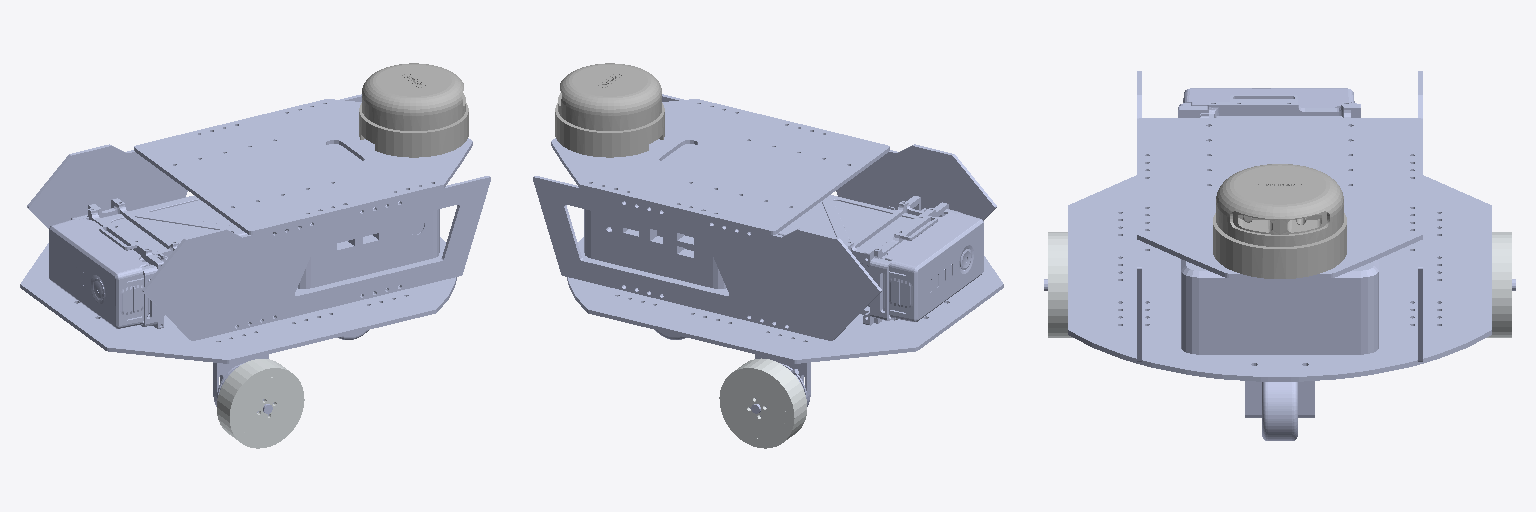
The robot description file, URDF, robot "arx_mini_description":
<?xml version="1.0" ?>
<!-- =================================================================================== -->
<!-- |    This document was autogenerated by xacro from arx_mini_with_manipulator.urdf.xacro | -->
<!-- |    EDITING THIS FILE BY HAND IS NOT RECOMMENDED                                 | -->
<!-- =================================================================================== -->
<robot name="arx_mini_description">
  <material name="black">
    <color rgba="0.0 0.0 0.0 1.0"/>
  </material>
  <material name="white">
    <color rgba="1.0 1.0 1.0 1.0"/>
  </material>
  <material name="red">
    <color rgba="0.8 0.0 0.0 1.0"/>
  </material>
  <material name="blue">
    <color rgba="0.0 0.0 0.8 1.0"/>
  </material>
  <material name="green">
    <color rgba="0.0 0.8 0.0 1.0"/>
  </material>
  <material name="grey">
    <color rgba="0.5 0.5 0.5 1.0"/>
  </material>
  <material name="orange">
    <color rgba="1.0 0.4235294117647059 0.0392156862745098 1.0"/>
  </material>
  <material name="brown">
    <color rgba="0.8705882352941177 0.8117647058823529 0.7647058823529411 1.0"/>
  </material>
  <!-- World -->
  <gazebo reference="world"/>
  <!-- Link1 -->
  <RefLink ref="link1"/>
  <!-- Link2 -->
  <RefLink ref="link2"/>
  <!-- Link3 -->
  <RefLink ref="link3"/>
  <!-- Link4 -->
  <RefLink ref="link4"/>
  <!-- Link5 -->
  <RefLink ref="link5"/>
  <!-- gripper_link -->
  <RefLink ref="gripper_link"/>
  <!-- gripper_link_sub -->
  <RefLink ref="gripper_link_sub"/>
  <!-- end effector link -->
  <gazebo reference="end_effector_link">
    <material>Gazebo/Red</material>
  </gazebo>
  <!-- ros_control plugin -->
  <gazebo>
    <plugin filename="libgazebo_ros_control.so" name="gazebo_ros_control">
      <controlPeriod>0.001</controlPeriod>
      <robotSimType>gazebo_ros_control/DefaultRobotHWSim</robotSimType>
      <legacyModeNS>true</legacyModeNS>
    </plugin>
  </gazebo>
  <gazebo>
    <!-- loading plugin: mimic joints works in gazebo now -->
    <plugin filename="libroboticsgroup_gazebo_mimic_joint_plugin.so" name="gazebo_gripper_ros_control">
      <joint>gripper</joint>
      <mimicJoint>gripper_sub</mimicJoint>
      <multiplier>1.0</multiplier>
      <offset>0.0</offset>
    </plugin>
  </gazebo>
  <!-- camera -->
  <gazebo reference="camera_link">
    <sensor name="intel_realsense_r200" type="camera">
      <update_rate>30.0</update_rate>
      <camera name="head">
        <horizontal_fov>1.02974</horizontal_fov>
        <image>
          <width>1920</width>
          <height>1080</height>
          <format>R8G8B8</format>
        </image>
        <clip>
          <near>0.02</near>
          <far>300</far>
        </clip>
        <noise>
          <type>gaussian</type>
          <!-- Noise is sampled independently per pixel on each frame.
               That pixel's noise value is added to each of its color
               channels, which at that point lie in the range [0,1]. -->
          <mean>0.0</mean>
          <stddev>0.007</stddev>
        </noise>
      </camera>
      <plugin filename="libgazebo_ros_camera.so" name="camera_controller">
        <alwaysOn>true</alwaysOn>
        <updateRate>0.0</updateRate>
        <cameraName>camera/color</cameraName>
        <imageTopicName>image_raw</imageTopicName>
        <cameraInfoTopicName>camera_info</cameraInfoTopicName>
        <frameName>camera_link</frameName>
        <hackBaseline>0.07</hackBaseline>
        <distortionK1>0.0</distortionK1>
        <distortionK2>0.0</distortionK2>
        <distortionK3>0.0</distortionK3>
        <distortionT1>0.0</distortionT1>
        <distortionT2>0.0</distortionT2>
      </plugin>
    </sensor>
  </gazebo>
  <transmission name="tran1">
    <type>transmission_interface/SimpleTransmission</type>
    <joint name="joint1">
      <hardwareInterface>hardware_interface/PositionJointInterface</hardwareInterface>
    </joint>
    <actuator name="motor1">
      <mechanicalReduction>1</mechanicalReduction>
    </actuator>
  </transmission>
  <transmission name="tran2">
    <type>transmission_interface/SimpleTransmission</type>
    <joint name="joint2">
      <hardwareInterface>hardware_interface/PositionJointInterface</hardwareInterface>
    </joint>
    <actuator name="motor2">
      <mechanicalReduction>1</mechanicalReduction>
    </actuator>
  </transmission>
  <transmission name="tran3">
    <type>transmission_interface/SimpleTransmission</type>
    <joint name="joint3">
      <hardwareInterface>hardware_interface/PositionJointInterface</hardwareInterface>
    </joint>
    <actuator name="motor3">
      <mechanicalReduction>1</mechanicalReduction>
    </actuator>
  </transmission>
  <transmission name="tran4">
    <type>transmission_interface/SimpleTransmission</type>
    <joint name="joint4">
      <hardwareInterface>hardware_interface/PositionJointInterface</hardwareInterface>
    </joint>
    <actuator name="motor4">
      <mechanicalReduction>1</mechanicalReduction>
    </actuator>
  </transmission>
  <transmission name="tran5">
    <type>transmission_interface/SimpleTransmission</type>
    <joint name="gripper">
      <hardwareInterface>hardware_interface/PositionJointInterface</hardwareInterface>
    </joint>
    <actuator name="motor5">
      <mechanicalReduction>1</mechanicalReduction>
    </actuator>
  </transmission>
  <transmission name="tran6">
    <type>transmission_interface/SimpleTransmission</type>
    <joint name="gripper_sub">
      <hardwareInterface>hardware_interface/PositionJointInterface</hardwareInterface>
    </joint>
    <actuator name="motor6">
      <mechanicalReduction>1</mechanicalReduction>
    </actuator>
  </transmission>
  <!-- Link 1 -->
  <link name="link1">
    <visual>
      <origin rpy="0 0 0" xyz="0 0 0"/>
      <geometry>
        <mesh filename="package://open_manipulator_description/meshes/chain_link1.stl" scale="0.001 0.001 0.001"/>
      </geometry>
      <material name="grey"/>
    </visual>
    <collision>
      <origin rpy="0 0 0" xyz="0 0 0"/>
      <geometry>
        <mesh filename="package://open_manipulator_description/meshes/chain_link1.stl" scale="0.001 0.001 0.001"/>
      </geometry>
    </collision>
    <inertial>
      <origin xyz="3.0876154e-04 0.0000000e+00 -1.2176461e-04"/>
      <mass value="7.9119962e-02"/>
      <inertia ixx="1.2505234e-05" ixy="0.0" ixz="-1.7855208e-07" iyy="2.1898364e-05" iyz="0.0" izz="1.9267361e-05"/>
    </inertial>
  </link>
  <!-- Joint 1 -->
  <joint name="joint1" type="revolute">
    <parent link="link1"/>
    <child link="link2"/>
    <origin rpy="0 0 0" xyz="0.012 0.0 0.017"/>
    <axis xyz="0 0 1"/>
    <limit effort="10" lower="-3.141593" upper="3.141593" velocity="4.8"/>
  </joint>
  <!--  Link 2 -->
  <link name="link2">
    <visual>
      <origin rpy="0 0 0" xyz="0 0 0.019"/>
      <geometry>
        <mesh filename="package://open_manipulator_description/meshes/chain_link2.stl" scale="0.001 0.001 0.001"/>
      </geometry>
      <material name="grey"/>
    </visual>
    <collision>
      <origin rpy="0 0 0" xyz="0 0 0.019"/>
      <geometry>
        <mesh filename="package://open_manipulator_description/meshes/chain_link2.stl" scale="0.001 0.001 0.001"/>
      </geometry>
    </collision>
    <inertial>
      <origin xyz="-3.0184870e-04 5.4043684e-04 0.047433463999999995"/>
      <mass value="9.8406837e-02"/>
      <inertia ixx="3.4543422e-05" ixy="-1.6031095e-08" ixz="-3.8375155e-07" iyy="3.2689329e-05" iyz="2.8511935e-08" izz="1.8850320e-05"/>
    </inertial>
  </link>
  <!--  Joint 2 -->
  <joint name="joint2" type="revolute">
    <parent link="link2"/>
    <child link="link3"/>
    <origin rpy="0 0 0" xyz="0.0 0.0 0.0595"/>
    <axis xyz="0 1 0"/>
    <limit effort="10" lower="-3.141593" upper="3.141593" velocity="4.8"/>
  </joint>
  <!--  Link 3 -->
  <link name="link3">
    <visual>
      <origin rpy="0 0 0" xyz="0 0 0"/>
      <geometry>
        <mesh filename="package://open_manipulator_description/meshes/chain_link3.stl" scale="0.001 0.001 0.001"/>
      </geometry>
      <material name="grey"/>
    </visual>
    <collision>
      <origin rpy="0 0 0" xyz="0 0 0"/>
      <geometry>
        <mesh filename="package://open_manipulator_description/meshes/chain_link3.stl" scale="0.001 0.001 0.001"/>
      </geometry>
    </collision>
    <inertial>
      <origin xyz="1.0308393e-02 3.7743363e-04 1.0170197e-01"/>
      <mass value="1.3850917e-01"/>
      <inertia ixx="3.3055381e-04" ixy="-9.7940978e-08" ixz="-3.8505711e-05" iyy="3.4290447e-04" iyz="-1.5717516e-06" izz="6.0346498e-05"/>
    </inertial>
  </link>
  <!--  Joint 3 -->
  <joint name="joint3" type="revolute">
    <parent link="link3"/>
    <child link="link4"/>
    <origin rpy="0 0 0" xyz="0.024 0 0.128"/>
    <axis xyz="0 1 0"/>
    <limit effort="10" lower="-3.141593" upper="3.141593" velocity="4.8"/>
  </joint>
  <!--  Link 4 -->
  <link name="link4">
    <visual>
      <origin rpy="0 0 0" xyz="0 0 0"/>
      <geometry>
        <mesh filename="package://open_manipulator_description/meshes/chain_link4.stl" scale="0.001 0.001 0.001"/>
      </geometry>
      <material name="grey"/>
    </visual>
    <collision>
      <origin rpy="0 0 0" xyz="0 0 0"/>
      <geometry>
        <mesh filename="package://open_manipulator_description/meshes/chain_link4.stl" scale="0.001 0.001 0.001"/>
      </geometry>
    </collision>
    <inertial>
      <origin xyz="9.0909590e-02 3.8929816e-04 2.2413279e-04"/>
      <mass value="1.3274562e-01"/>
      <inertia ixx="3.0654178e-05" ixy="-1.2764155e-06" ixz="-2.6874417e-07" iyy="2.4230292e-04" iyz="1.1559550e-08" izz="2.5155057e-04"/>
    </inertial>
  </link>
  <!--  Joint 4 -->
  <joint name="joint4" type="revolute">
    <parent link="link4"/>
    <child link="link5"/>
    <origin rpy="0 0 0" xyz="0.124 0.0 0.0"/>
    <axis xyz="0 1 0"/>
    <limit effort="10" lower="-3.141593" upper="3.141593" velocity="4.8"/>
  </joint>
  <!--  Link 5 -->
  <link name="link5">
    <visual>
      <origin rpy="0 0 0" xyz="0 0 0"/>
      <geometry>
        <mesh filename="package://open_manipulator_description/meshes/chain_link5.stl" scale="0.001 0.001 0.001"/>
      </geometry>
      <material name="grey"/>
    </visual>
    <collision>
      <origin rpy="0 0 0" xyz="0 0 0"/>
      <geometry>
        <mesh filename="package://open_manipulator_description/meshes/chain_link5.stl" scale="0.001 0.001 0.001"/>
      </geometry>
    </collision>
    <inertial>
      <origin xyz="4.4206755e-02 3.6839985e-07 8.9142216e-03"/>
      <mass value="1.4327573e-01"/>
      <inertia ixx="8.0870749e-05" ixy="0.0" ixz="-1.0157896e-06" iyy="7.5980465e-05" iyz="0.0" izz="9.3127351e-05"/>
    </inertial>
  </link>
  <!--  Gripper joint -->
  <joint name="gripper" type="prismatic">
    <parent link="link5"/>
    <child link="gripper_link"/>
    <origin rpy="0 0 0" xyz="0.0817 0.021 0.0"/>
    <axis xyz="0 1 0"/>
    <limit effort="1" lower="-0.010" upper="0.019" velocity="4.8"/>
  </joint>
  <!--  Gripper link -->
  <link name="gripper_link">
    <visual>
      <origin rpy="0 0 0" xyz="0.0 0.0 0"/>
      <geometry>
        <mesh filename="package://open_manipulator_description/meshes/chain_link_grip_l.stl" scale="0.001 0.001 0.001"/>
      </geometry>
      <material name="grey"/>
    </visual>
    <collision>
      <origin rpy="0 0 0" xyz="0.0 0.0 0"/>
      <geometry>
        <mesh filename="package://open_manipulator_description/meshes/chain_link_grip_l.stl" scale="0.001 0.001 0.001"/>
      </geometry>
    </collision>
    <inertial>
      <origin xyz="0 0 0"/>
      <mass value="1.0e-03"/>
      <inertia ixx="1.0e-03" ixy="0.0" ixz="0.0" iyy="1.0e-03" iyz="0.0" izz="1.0e-03"/>
    </inertial>
  </link>
  <!--  Gripper joint sub -->
  <joint name="gripper_sub" type="prismatic">
    <parent link="link5"/>
    <child link="gripper_link_sub"/>
    <origin rpy="0 0 0" xyz="0.0817 -0.021 0"/>
    <axis xyz="0 -1 0"/>
    <limit effort="1" lower="-0.010" upper="0.019" velocity="4.8"/>
    <mimic joint="gripper" multiplier="1"/>
  </joint>
  <!--  Gripper link sub -->
  <link name="gripper_link_sub">
    <visual>
      <origin rpy="0 0 0" xyz="0.0 -0.0 0"/>
      <geometry>
        <mesh filename="package://open_manipulator_description/meshes/chain_link_grip_r.stl" scale="0.001 0.001 0.001"/>
      </geometry>
      <material name="grey"/>
    </visual>
    <collision>
      <origin rpy="0 0 0" xyz="0.0 -0.0 0"/>
      <geometry>
        <mesh filename="package://open_manipulator_description/meshes/chain_link_grip_r.stl" scale="0.001 0.001 0.001"/>
      </geometry>
    </collision>
    <inertial>
      <origin xyz="0 0 0"/>
      <mass value="1.0e-03"/>
      <inertia ixx="1.0e-03" ixy="0.0" ixz="0.0" iyy="1.0e-03" iyz="0.0" izz="1.0e-03"/>
    </inertial>
  </link>
  <!-- manipulator fixed joint-->
  <joint name="manipulator_fixed" type="fixed">
    <origin rpy="0 0 0" xyz="0 0 0.075"/>
    <parent link="base_link"/>
    <child link="link1"/>
  </joint>
  <link name="base_link">
    <inertial>
      <origin rpy="0 0 0" xyz="0.015887 -0.00054953 0.028848"/>
      <mass value="15.062"/>
      <inertia ixx="0.0021916" ixy="-3.614E-06" ixz="8.4882E-06" iyy="0.0032298" iyz="2.6215E-06" izz="0.004925"/>
    </inertial>
    <visual>
      <origin rpy="0 0 0" xyz="0 0 0"/>
      <geometry>
        <mesh filename="package://arx_mini_description/meshes/base_link.STL"/>
      </geometry>
      <material name="">
        <color rgba="0.79216 0.81961 0.93333 1"/>
      </material>
    </visual>
    <collision>
      <origin rpy="0 0 0" xyz="0 0 0"/>
      <geometry>
        <mesh filename="package://arx_mini_description/meshes/base_link.STL"/>
      </geometry>
    </collision>
  </link>
  <link name="laser">
    <inertial>
      <origin rpy="0 0 0" xyz="-0.00056545 -1.4938E-05 -0.011701"/>
      <mass value="1.6538"/>
      <inertia ixx="7.8865E-05" ixy="4.8472E-08" ixz="2.1848E-06" iyy="7.519E-05" iyz="2.886E-08" izz="0.00010995"/>
    </inertial>
    <visual>
      <origin rpy="0 0 0" xyz="0 0 0"/>
      <geometry>
        <mesh filename="package://arx_mini_description/meshes/laser.STL"/>
      </geometry>
      <material name="">
        <color rgba="0.75294 0.75294 0.75294 0.4"/>
      </material>
    </visual>
    <collision>
      <origin rpy="0 0 0" xyz="0 0 0"/>
      <geometry>
        <mesh filename="package://arx_mini_description/meshes/laser.STL"/>
      </geometry>
    </collision>
  </link>
  <joint name="base_link_to_laser" type="fixed">
    <origin rpy="0 0 0" xyz="0.133 0 0.107171615364778"/>
    <parent link="base_link"/>
    <child link="laser"/>
    <axis xyz="0 0 0"/>
  </joint>
  <link name="left_wheel_link">
    <inertial>
      <origin rpy="0 0 0" xyz="-1.3878E-17 -0.0080105 -1.3878E-17"/>
      <mass value="0.80724"/>
      <inertia ixx="2.6957E-05" ixy="-7.5305E-20" ixz="1.469E-21" iyy="4.9447E-05" iyz="2.2384E-20" izz="2.6957E-05"/>
    </inertial>
    <visual>
      <origin rpy="0 0 0" xyz="0 0 0"/>
      <geometry>
        <mesh filename="package://arx_mini_description/meshes/left_wheel_link.STL"/>
      </geometry>
      <material name="">
        <color rgba="0.89804 0.91765 0.92941 1"/>
      </material>
    </visual>
    <collision>
      <origin rpy="0 0 0" xyz="0 0 0"/>
      <geometry>
        <mesh filename="package://arx_mini_description/meshes/left_wheel_link.STL"/>
      </geometry>
    </collision>
  </link>
  <joint name="base_link_to_left_wheel" type="continuous">
    <origin rpy="0 0 0" xyz="-0.06 0.131 -0.035"/>
    <parent link="base_link"/>
    <child link="left_wheel_link"/>
    <axis xyz="0 1 0"/>
  </joint>
  <link name="right_wheel_link">
    <inertial>
      <origin rpy="0 0 0" xyz="2.7756E-17 0.0080105 -1.3878E-17"/>
      <mass value="0.80724"/>
      <inertia ixx="2.6957E-05" ixy="-7.4963E-20" ixz="-1.469E-21" iyy="4.9447E-05" iyz="-2.3687E-20" izz="2.6957E-05"/>
    </inertial>
    <visual>
      <origin rpy="0 0 0" xyz="0 0 0"/>
      <geometry>
        <mesh filename="package://arx_mini_description/meshes/right_wheel_link.STL"/>
      </geometry>
      <material name="">
        <color rgba="0.89804 0.91765 0.92941 1"/>
      </material>
    </visual>
    <collision>
      <origin rpy="0 0 0" xyz="0 0 0"/>
      <geometry>
        <mesh filename="package://arx_mini_description/meshes/right_wheel_link.STL"/>
      </geometry>
    </collision>
  </link>
  <joint name="base_link_to_right_wheel" type="continuous">
    <origin rpy="0 0 0" xyz="-0.06 -0.131 -0.035"/>
    <parent link="base_link"/>
    <child link="right_wheel_link"/>
    <axis xyz="0 1 0"/>
  </joint>
  <link name="caster_holder_link">
    <inertial>
      <origin rpy="0 0 0" xyz="-0.024794 0 -0.018851"/>
      <mass value="0.25767"/>
      <inertia ixx="1.1549E-05" ixy="3.8856E-21" ixz="-2.1936E-06" iyy="1.0961E-05" iyz="-8.0435E-22" izz="1.0298E-05"/>
    </inertial>
    <visual>
      <origin rpy="0 0 0" xyz="0 0 0"/>
      <geometry>
        <mesh filename="package://arx_mini_description/meshes/caster_holder_link.STL"/>
      </geometry>
      <material name="">
        <color rgba="0.79216 0.81961 0.93333 1"/>
      </material>
    </visual>
    <collision>
      <origin rpy="0 0 0" xyz="0 0 0"/>
      <geometry>
        <mesh filename="package://arx_mini_description/meshes/caster_holder_link.STL"/>
      </geometry>
    </collision>
  </link>
  <joint name="base_link_to_caster_holder" type="continuous">
    <origin rpy="0 0 0" xyz="0.11 0 0"/>
    <parent link="base_link"/>
    <child link="caster_holder_link"/>
    <axis xyz="0 0 -1"/>
  </joint>
  <link name="caster_wheel_link">
    <inertial>
      <origin rpy="0 0 0" xyz="2.7756E-17 0.01 0"/>
      <mass value="0.1838"/>
      <inertia ixx="2.8557E-06" ixy="-7.698E-22" ixz="9.2088E-39" iyy="4.5367E-06" iyz="-4.5492E-23" izz="2.8557E-06"/>
    </inertial>
    <visual>
      <origin rpy="0 0 0" xyz="0 0 0"/>
      <geometry>
        <mesh filename="package://arx_mini_description/meshes/caster_wheel_link.STL"/>
      </geometry>
      <material name="">
        <color rgba="0.79216 0.81961 0.93333 1"/>
      </material>
    </visual>
    <collision>
      <origin rpy="0 0 0" xyz="0 0 0"/>
      <geometry>
        <mesh filename="package://arx_mini_description/meshes/caster_wheel_link.STL"/>
      </geometry>
    </collision>
  </link>
  <joint name="base_link_to_caster_wheel" type="continuous">
    <origin rpy="0 0 0" xyz="-0.03 -0.01 -0.045"/>
    <parent link="caster_holder_link"/>
    <child link="caster_wheel_link"/>
    <axis xyz="0 1 0"/>
  </joint>
  <link name="imu_link">
    <collision>
      <origin rpy="0 0 0" xyz="0 0 0"/>
      <geometry>
        <box size="0.01 0.01 0.01"/>
      </geometry>
    </collision>
    <visual>
      <origin rpy="0 0 0" xyz="0 0 0"/>
      <geometry>
        <box size="0.01 0.01 0.01"/>
      </geometry>
      <material name="green">
        <color rgba="0 1 0 1"/>
      </material>
    </visual>
    <inertial>
      <mass value="1e-2"/>
      <origin rpy="0 0 0" xyz="0 0 0"/>
      <inertia ixx="1e-6" ixy="0" ixz="0" iyy="1e-6" iyz="0" izz="1e-6"/>
    </inertial>
  </link>
  <joint name="base_link_to_imu_link" type="fixed">
    <axis xyz="0 1 0"/>
    <origin rpy="0 0 0" xyz="0 0 0"/>
    <parent link="base_link"/>
    <child link="imu_link"/>
  </joint>
 
  <gazebo reference="base_link">
    <material>Gazebo/White</material>
  </gazebo>
  <gazebo reference="base_footprint">
    <material>Gazebo/White</material>
  </gazebo>
  <gazebo reference="imu_link">
    <material>Gazebo/White</material>
  </gazebo>
  <gazebo reference="left_wheel_link">
    <material>Gazebo/White</material>
  </gazebo>
  <gazebo reference="right_wheel_link">
    <material>Gazebo/White</material>
  </gazebo>
  <gazebo reference="caster_holder_link">
    <material>Gazebo/White</material>
  </gazebo>
  <gazebo reference="caster_wheel_link">
    <material>Gazebo/White</material>
  </gazebo>
  <gazebo reference="laser">
    <material>Gazebo/White</material>
  </gazebo>
  <gazebo>
    <plugin filename="libgazebo_ros_diff_drive.so" name="differential_drive_controller">
      <updateRate> 50 </updateRate>
      <rosDebugLevel>Debug</rosDebugLevel>
      <leftJoint>base_link_to_left_wheel</leftJoint>
      <rightJoint>base_link_to_right_wheel</rightJoint>
      <wheelSeparation>0.241</wheelSeparation>
      <wheelDiameter>0.06</wheelDiameter>
      <wheelAcceleration>1.0</wheelAcceleration>
      <wheelTorque>20</wheelTorque>
      <commandTopic>cmd_vel</commandTopic>
      <odometryTopic>wheel_odom</odometryTopic>
      <odometryFrame>wheel_odom</odometryFrame>
      <robotBaseFrame>base_footprint</robotBaseFrame>
      <odometrySource>world</odometrySource>
      <publishWheelTF>false</publishWheelTF>
      <publishOdom>true</publishOdom>
      <publishOdomTF>false</publishOdomTF>
      <publishTF>false</publishTF>
      <publishWheelJointState>false</publishWheelJointState>
      <legacyMode>false</legacyMode>
    </plugin>
  </gazebo>
  <gazebo reference="laser">
    <sensor name="head_hokuyo_sensor" type="ray">
      <!-- <sensor type="gpu_ray" name="head_hokuyo_sensor">   -->
      <!-- GPU -->
      <pose>0 0 0 0 0 0</pose>
      <visualize>false</visualize>
      <update_rate>15</update_rate>
      <ray>
        <scan>
          <horizontal>
            <samples>720</samples>
            <resolution>1</resolution>
            <min_angle>-3.1415926</min_angle>
            <max_angle>3.1415926</max_angle>
          </horizontal>
        </scan>
        <range>
          <min>0.05</min>
          <max>30.0</max>
          <resolution>0.01</resolution>
        </range>
        <noise>
          <type>gaussian</type>
          <!-- Noise parameters based on published spec for Hokuyo laser
               achieving "+-30mm" accuracy at range < 10m.  A mean of 0.0m and
               stddev of 0.01m will put 99.7% of samples within 0.03m of the true
               reading. -->
          <mean>0.0</mean>
          <stddev>0.01</stddev>
        </noise>
      </ray>
      <!-- GPU版本 -->
      <!-- <plugin name="gazebo_ros_head_hokuyo_controller" filename="libgazebo_ros_gpu_laser.so">  -->
      <plugin filename="libgazebo_ros_laser.so" name="gazebo_ros_head_hokuyo_controller">
        <topicName>scan</topicName>
        <frameName>laser</frameName>
      </plugin>
    </sensor>
  </gazebo>
  <gazebo reference="imu_link">
    <gravity>true</gravity>
    <sensor name="imu_sensor" type="imu">
      <always_on>true</always_on>
      <update_rate>100</update_rate>
      <visualize>true</visualize>
      <topic>__default_topic__</topic>
      <plugin filename="libgazebo_ros_imu_sensor.so" name="imu_plugin">
        <topicName>gazebo/imu/data</topicName>
        <bodyName>imu_link</bodyName>
        <updateRateHZ>100.0</updateRateHZ>
        <gaussianNoise>0.0</gaussianNoise>
        <xyzOffset>0 0 0</xyzOffset>
        <rpyOffset>0 0 0</rpyOffset>
        <frameName>imu_link</frameName>
      </plugin>
      <pose>0 0 0 0 0 0</pose>
    </sensor>
  </gazebo>
</robot>

--- Render facts (derived) ---
Views: 3 orthographic renders of the robot side by side, from view 1: azimuth 30°, elevation 25°; view 2: azimuth 150°, elevation 25°; view 3: azimuth 270°, elevation 25°.
Robot: arx_mini_description — 14 links, 13 joints (4 revolute, 4 continuous, 2 prismatic, 3 fixed); root link base_link; default pose: all joints at 0.
Links seen in each view (by area): view 1: base_link, laser, right_wheel_link; view 2: base_link, laser, left_wheel_link; view 3: base_link, laser, left_wheel_link, right_wheel_link, caster_wheel_link, caster_holder_link.
Boxes of the visible links, x1,y1,x2,y2 form: base_link: [20, 94, 490, 415]; laser: [359, 63, 468, 157]; right_wheel_link: [217, 359, 304, 448]; base_link: [533, 94, 1003, 416]; laser: [555, 63, 664, 157]; left_wheel_link: [719, 358, 806, 448]; base_link: [1044, 71, 1515, 381]; laser: [1213, 164, 1346, 278]; left_wheel_link: [1487, 232, 1511, 337]; right_wheel_link: [1048, 232, 1072, 337]; caster_wheel_link: [1262, 382, 1297, 440]; caster_holder_link: [1245, 381, 1314, 417].
Size in the robot's own frame: 0.318 by 0.266 by 0.1822 metres.
6 mesh visuals loaded from 13 distinct referenced files (6 binary STL); not drawn: 7 (reference not matched to a file when rendering).
